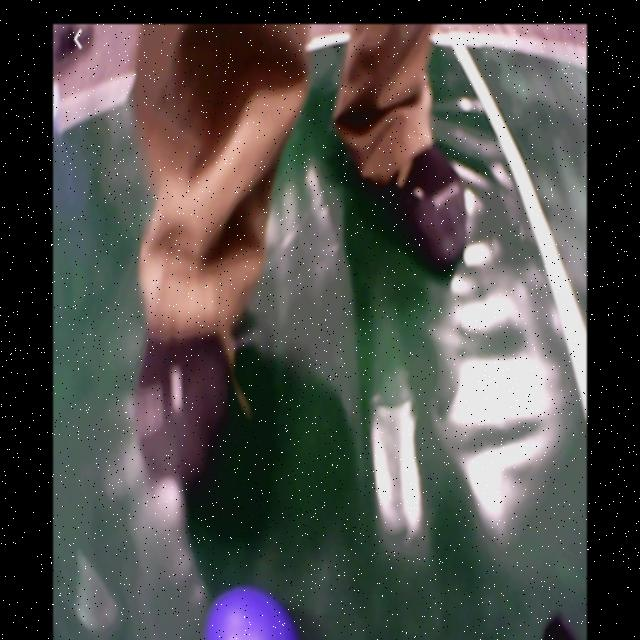ball: (201, 590, 298, 640)
